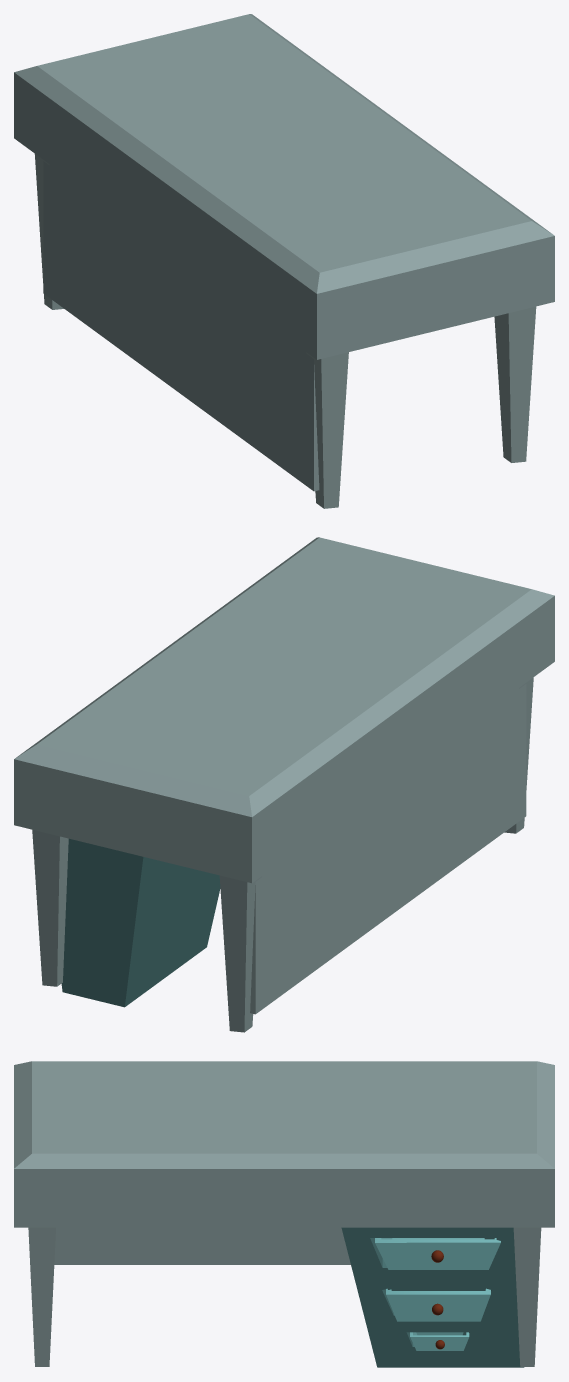
The model's file is bureautiroir.FBX.
3 renders of one model, top to bottom at view 1: azimuth 30°, elevation 25°; view 2: azimuth 150°, elevation 25°; view 3: azimuth 270°, elevation 25°, orthographic. The views are drawn at different scales.
Parts seen in each view (by area): view 1: Box001, Box007, Box005, Box003, Box002; view 2: Box001, Box007, Box010, Box004, Box002, Box003; view 3: Box001, Box010, Box007, Box014, Box005, Box004, Box009, Box013.
Boxes of the visible parts, x1,y1,x2,y2 form: Box001: (14, 14, 554, 359); Box007: (43, 161, 319, 491); Box005: (494, 306, 536, 462); Box003: (306, 352, 348, 508); Box002: (34, 154, 63, 309); Box001: (14, 537, 554, 883); Box007: (250, 684, 526, 1014); Box010: (61, 838, 220, 1007); Box004: (32, 830, 68, 986); Box002: (219, 875, 261, 1032); Box003: (504, 677, 533, 833); Box001: (14, 1061, 554, 1227); Box010: (341, 1227, 524, 1367); Box007: (54, 1227, 350, 1264); Box014: (375, 1238, 500, 1269); Box005: (28, 1227, 55, 1366); Box004: (513, 1227, 541, 1366); Box009: (386, 1288, 490, 1321); Box013: (410, 1332, 469, 1350).
Size of the model in its own units: 48.12 by 47.9 by 106.
